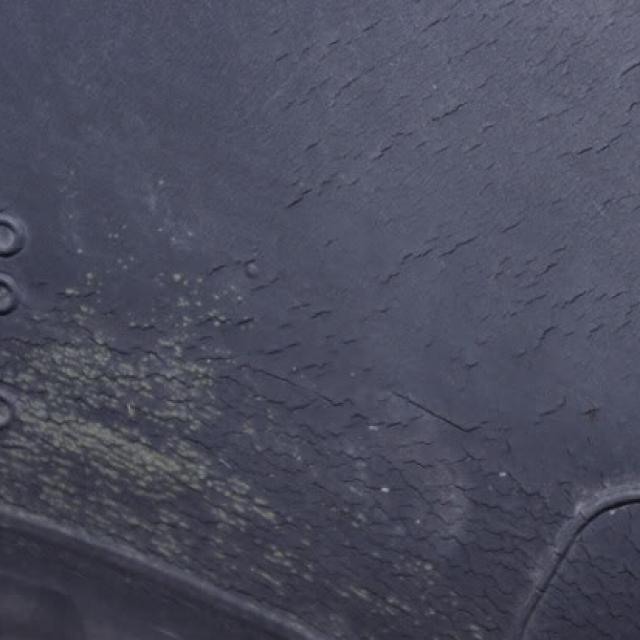Cracks: (256, 0, 640, 640), (0, 225, 255, 640)
